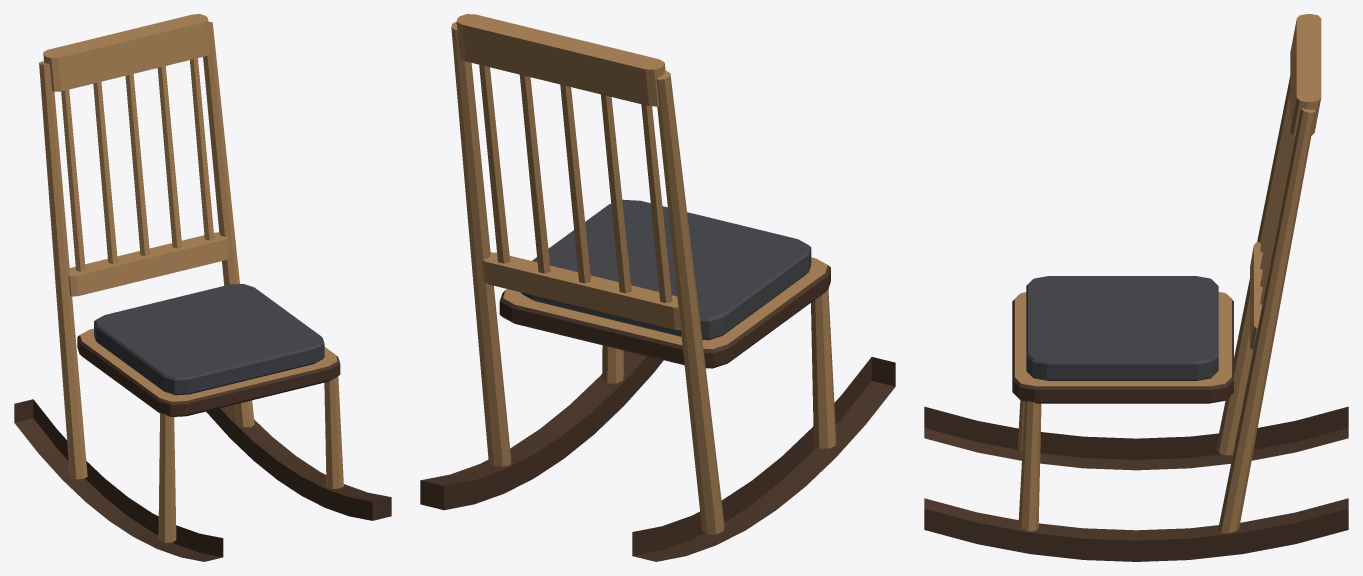
File: FN_Chair_Rocking.glb
The picture shows the model from 3 angles, left to right: view 1: azimuth 30°, elevation 25°; view 2: azimuth 150°, elevation 25°; view 3: azimuth 270°, elevation 25°; orthographic projection. The views are drawn at different scales.
Visible parts, largest first — view 1: FN_Chair_Rocking; view 2: FN_Chair_Rocking; view 3: FN_Chair_Rocking.
Boxes of the visible parts, <box> form: FN_Chair_Rocking: <box>14,14,391,561</box>; FN_Chair_Rocking: <box>420,14,895,561</box>; FN_Chair_Rocking: <box>924,14,1348,561</box>.
Bounding box in the file's own units: 0.512 × 1.06 × 0.9.
Materials: 1 (1 with a texture image).
